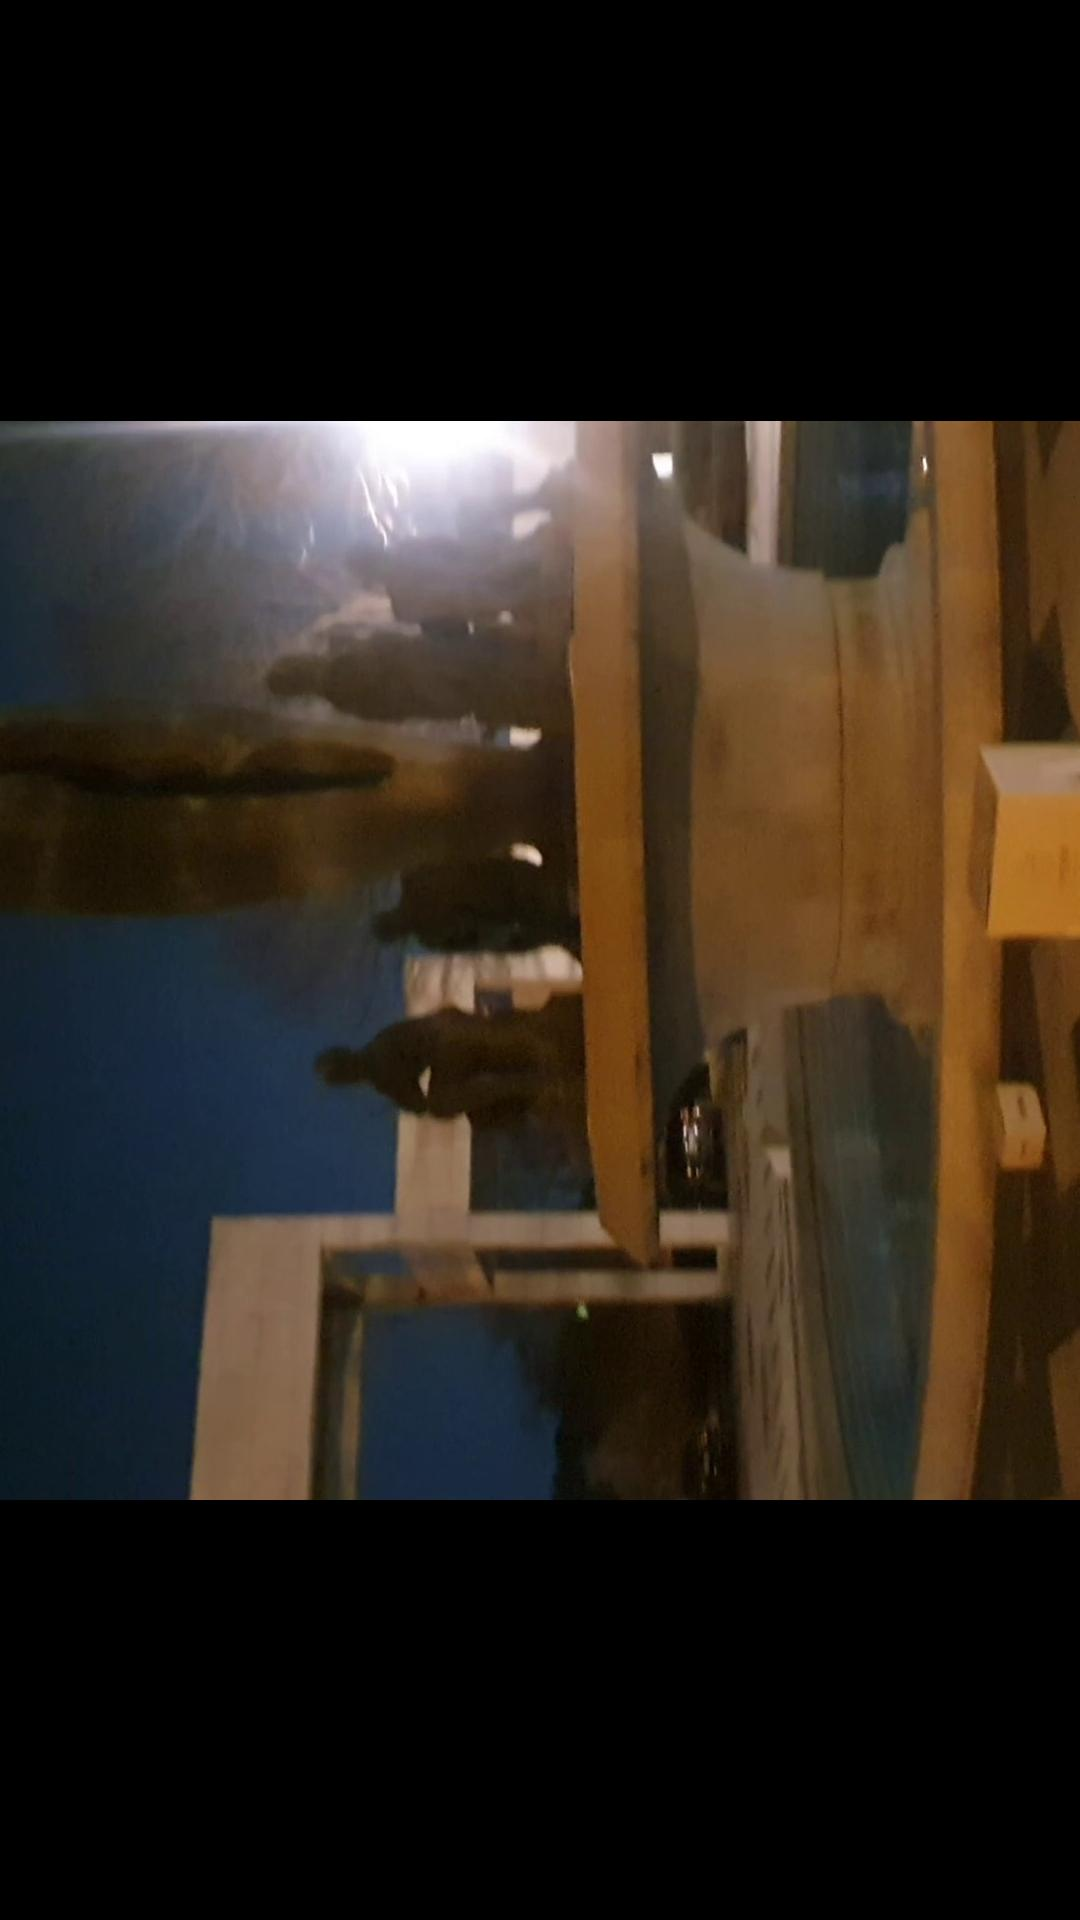Box: (953, 740, 1080, 939), (978, 1069, 1050, 1178)
